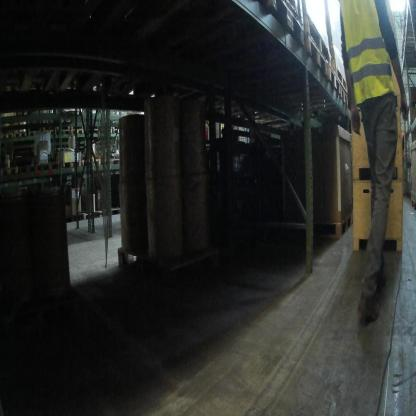pallet: (117, 228, 235, 291), (242, 38, 330, 86), (278, 207, 359, 249), (251, 2, 308, 50), (276, 62, 341, 101), (275, 86, 349, 112), (73, 203, 104, 224), (401, 37, 415, 70), (403, 6, 416, 40), (19, 158, 38, 179), (37, 160, 61, 175), (102, 201, 121, 219), (60, 159, 82, 174), (82, 155, 101, 171), (102, 155, 124, 168), (1, 164, 20, 179), (27, 127, 42, 141), (13, 127, 29, 140), (69, 124, 85, 137), (54, 124, 72, 135), (1, 130, 14, 144), (41, 125, 55, 138), (409, 194, 415, 216)
